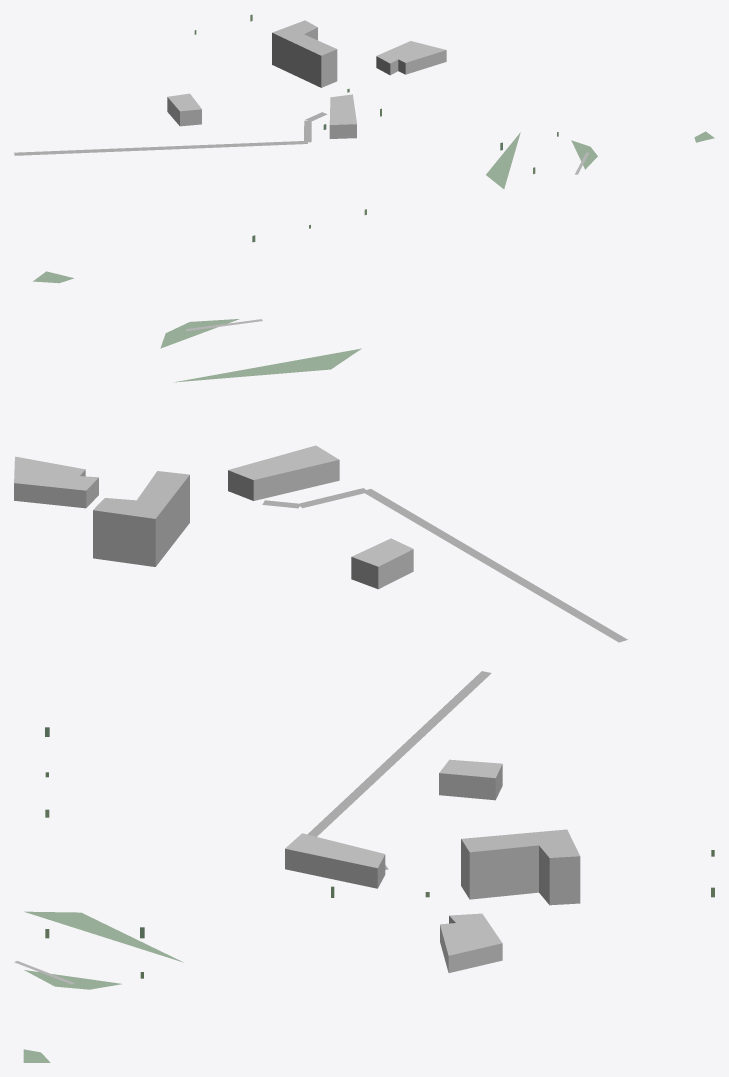
The picture shows the model from 3 angles, top to bottom: view 1: azimuth 30°, elevation 25°; view 2: azimuth 150°, elevation 25°; view 3: azimuth 270°, elevation 25°; orthographic projection. The views are drawn at different scales.
Size of the model in its own units: 583 by 33.77 by 442.
